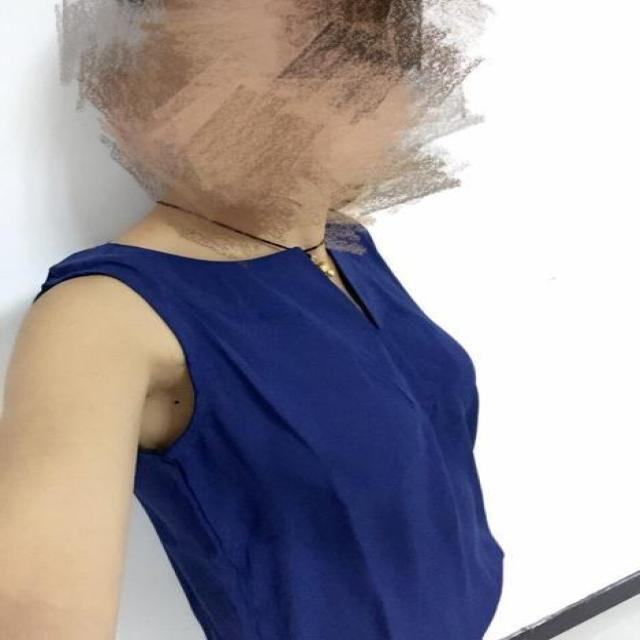vest: (36, 216, 503, 639)
